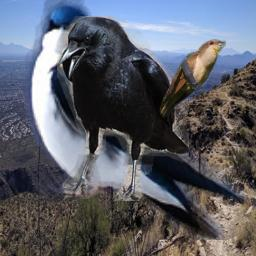Crow: (57, 16, 189, 201)
Cuckoo: (157, 39, 226, 119)
Swallow: (25, 0, 244, 240)
